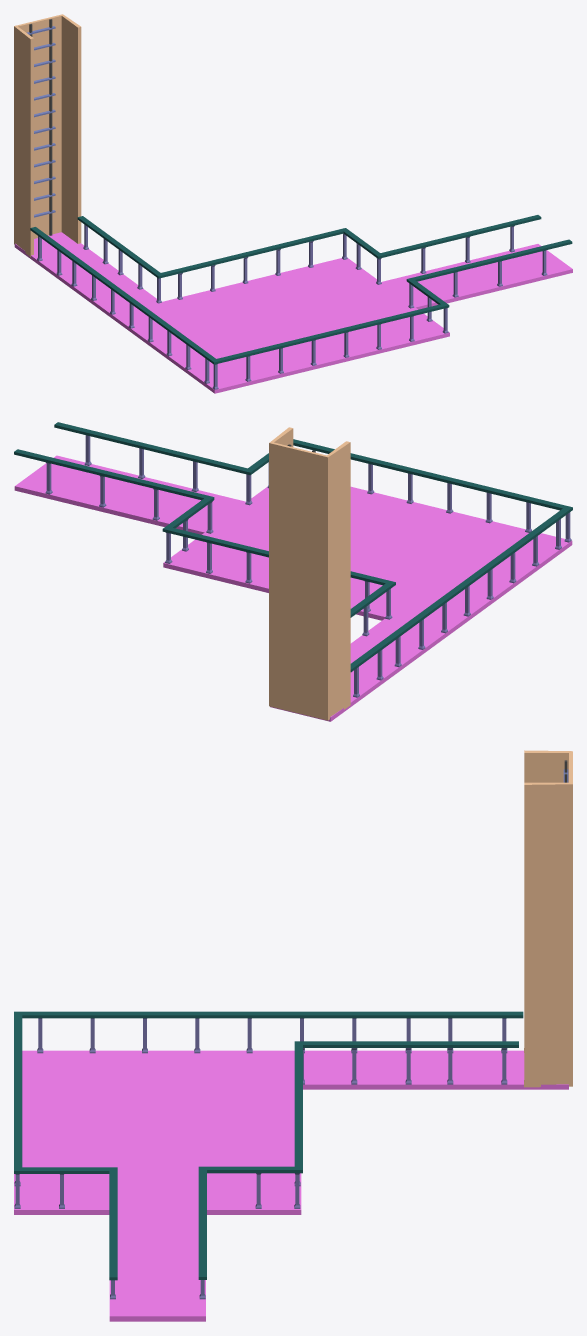
Rendered from Stairts_wooden_platform.fbx.
3 views of the same model, one above another, from view 1: azimuth 30°, elevation 25°; view 2: azimuth 150°, elevation 25°; view 3: azimuth 270°, elevation 25° (orthographic). The views are drawn at different scales.
Parts seen in each view (by area): view 1: Box042, Object030, Line098, Box047, Box043; view 2: Box042, Object030, Line098, Box047; view 3: Box042, Object030, Line098, Box047.
Boxes of the visible parts, bbox=[...] form: Box042: bbox=[14, 232, 572, 393]; Object030: bbox=[14, 14, 81, 257]; Line098: bbox=[30, 215, 572, 364]; Box047: bbox=[37, 224, 547, 389]; Box043: bbox=[26, 19, 55, 235]; Box042: bbox=[14, 455, 572, 721]; Object030: bbox=[269, 427, 350, 720]; Line098: bbox=[14, 422, 572, 672]; Box047: bbox=[45, 435, 571, 697]; Box042: bbox=[14, 1050, 568, 1321]; Object030: bbox=[524, 750, 572, 1087]; Line098: bbox=[14, 1011, 523, 1280]; Box047: bbox=[14, 1018, 507, 1299].
Bounding box in the file's own units: 1191 × 1056 × 636.
